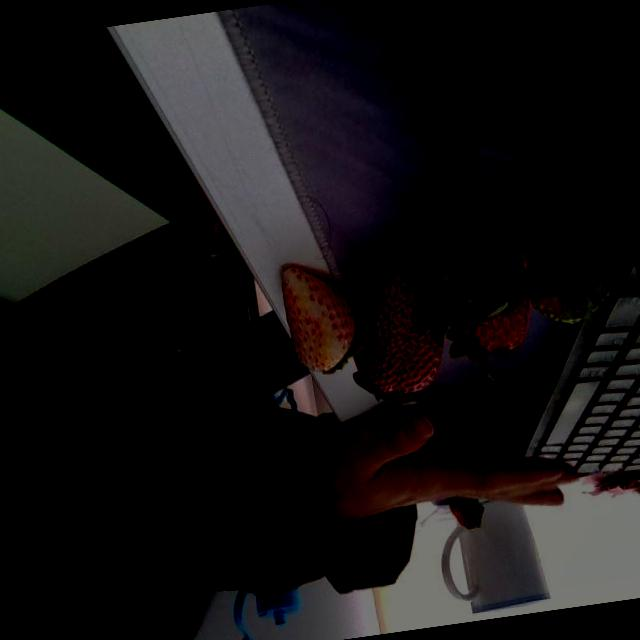Strawberry: (342, 258, 451, 404), (407, 181, 513, 320), (442, 242, 536, 363), (278, 261, 364, 380)
